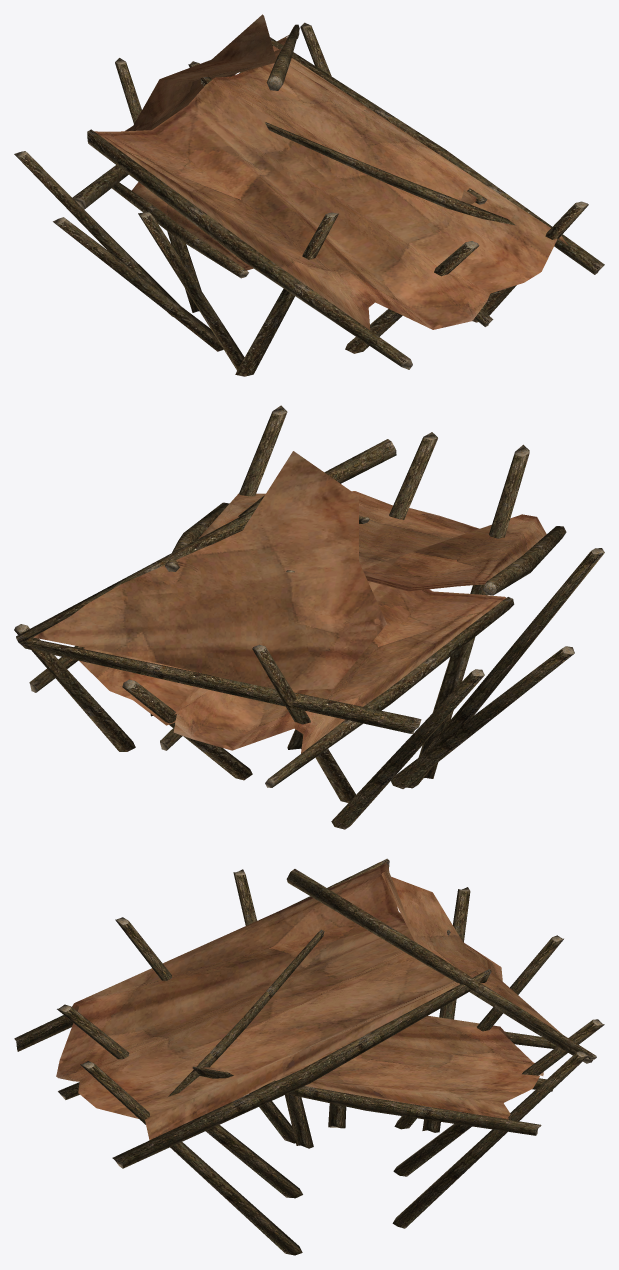
The model's file is poi_all_lair_wooden_destroyed_l0.fbx.
3 views of the same model, one above another, from view 1: azimuth 30°, elevation 25°; view 2: azimuth 150°, elevation 25°; view 3: azimuth 270°, elevation 25° (orthographic). The views are drawn at different scales.
Parts seen in each view (by area): view 1: mesh_node; view 2: mesh_node; view 3: mesh_node.
Part boxes in pixels (<box>): mesh_node: <box>14,14,604,376</box>; mesh_node: <box>14,405,604,829</box>; mesh_node: <box>14,858,604,1255</box>.
Size of the model in its own units: 8.51 by 5.88 by 10.32.
